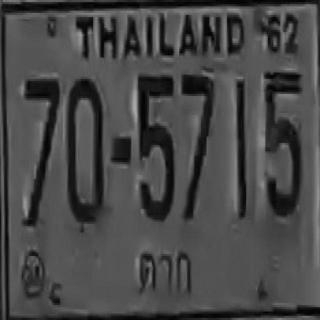N00: (67, 77, 104, 224)
N01: (235, 78, 246, 219)
N05: (263, 69, 302, 214), (136, 73, 174, 220)
N07: (23, 77, 59, 226), (180, 72, 214, 218), (23, 77, 59, 177)
P69: (132, 242, 199, 308)
